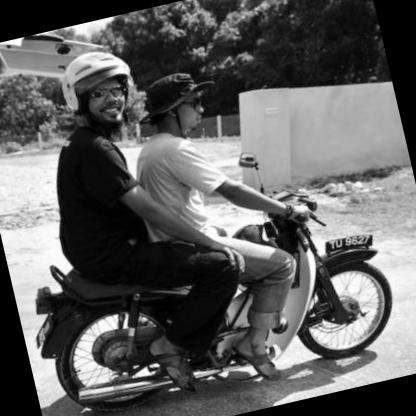moto: (20, 165, 416, 416)
